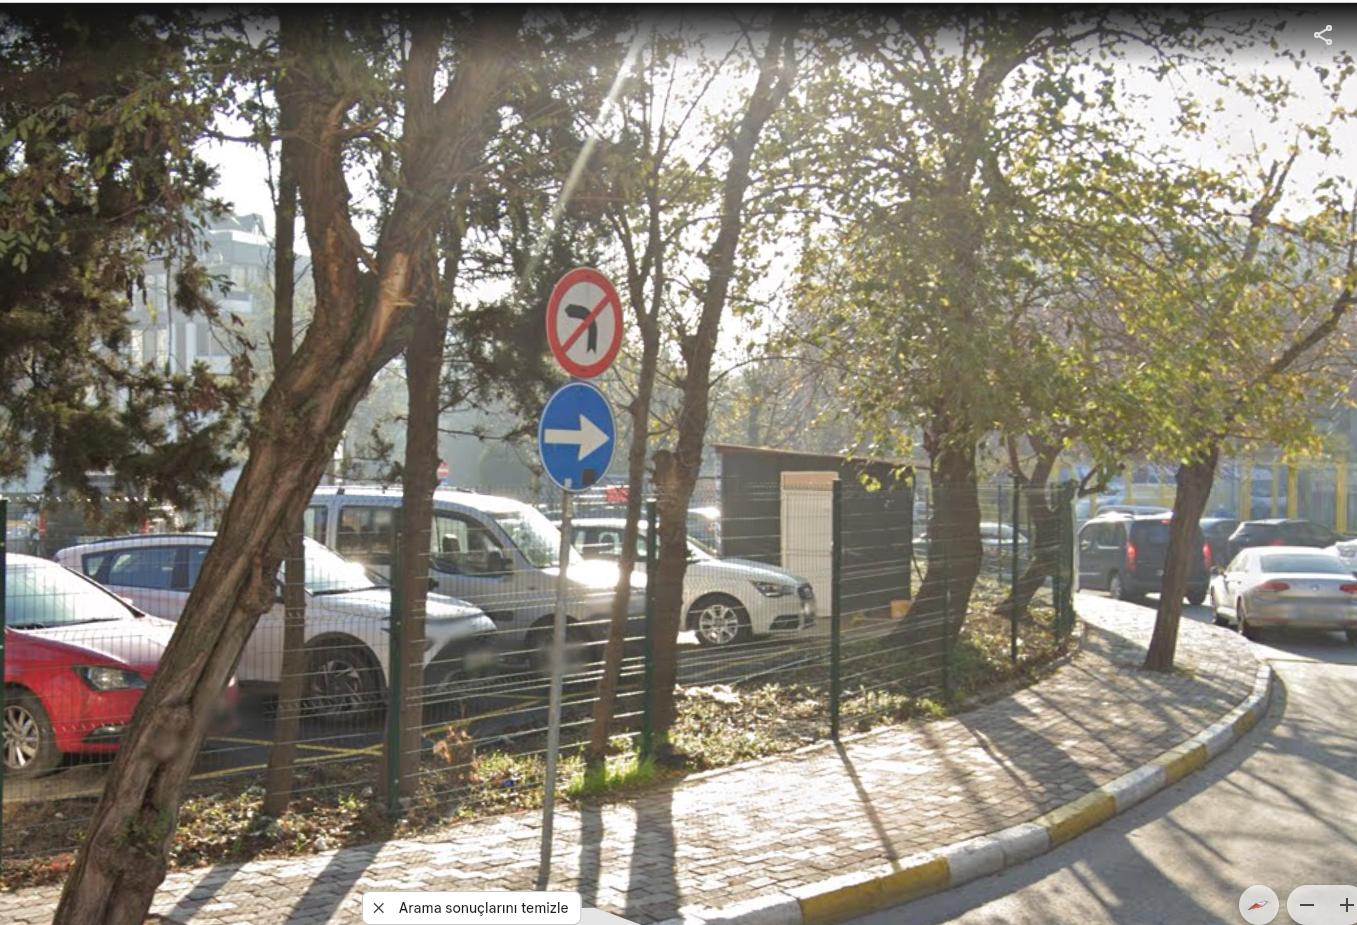leftturnsareforbidden: (545, 266, 623, 376)
turnright: (537, 385, 621, 492)
